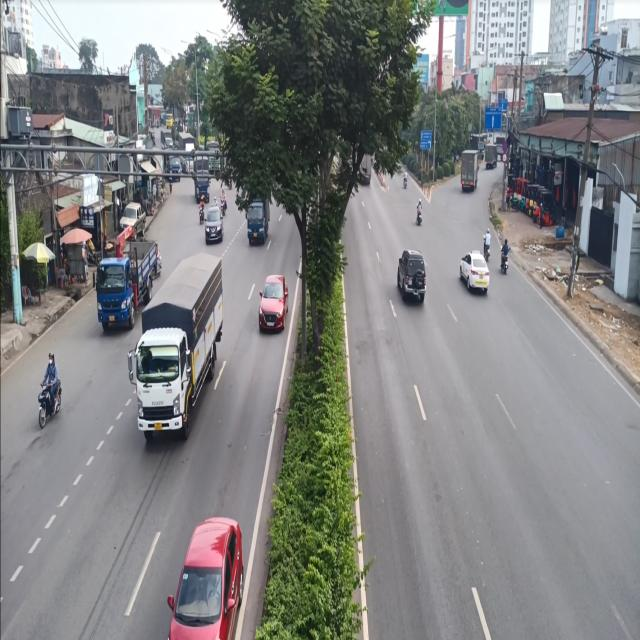car: (169, 506, 241, 640), (393, 241, 431, 307), (458, 244, 494, 301), (261, 265, 288, 341), (206, 204, 226, 247)
motor: (30, 344, 64, 436), (483, 224, 495, 264), (502, 235, 512, 277)
truck: (134, 240, 230, 452)
